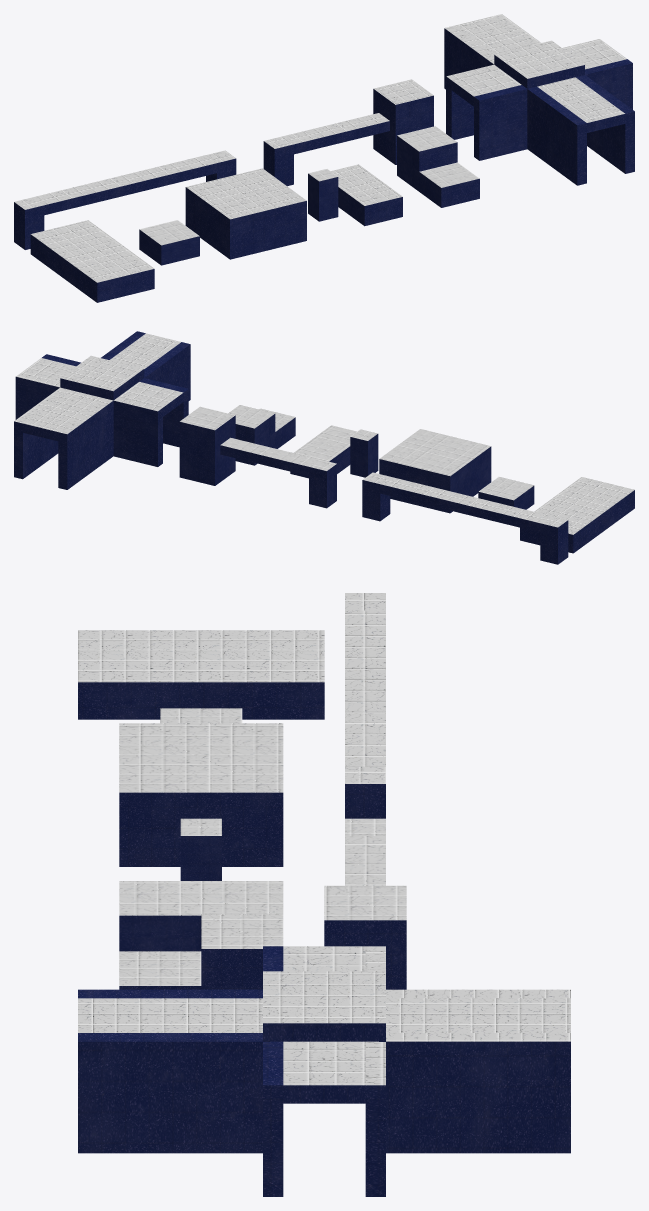
File: platforms 1.fbx
The picture shows the model from 3 angles, top to bottom: view 1: azimuth 30°, elevation 25°; view 2: azimuth 150°, elevation 25°; view 3: azimuth 270°, elevation 25°; orthographic projection. The views are drawn at different scales.
Visible parts, largest first — view 1: polySurface65, pCube3, polySurface66, pCube1, pCube12, pCube8, pCube5, pCube2, pCube4; view 2: polySurface65, polySurface66, pCube12, pCube3, pCube1, pCube8, pCube5, pCube2, pCube4; view 3: polySurface65, pCube3, pCube1, pCube12, polySurface66, pCube5, pCube8, pCube4, pCube2.
Part boxes in pixels (bbox=[...]): polySurface65: bbox=[444, 14, 634, 185]; pCube3: bbox=[185, 168, 306, 259]; polySurface66: bbox=[263, 79, 433, 186]; pCube1: bbox=[30, 220, 154, 302]; pCube12: bbox=[14, 150, 236, 249]; pCube8: bbox=[397, 126, 479, 207]; pCube5: bbox=[331, 164, 402, 226]; pCube2: bbox=[139, 220, 199, 265]; pCube4: bbox=[308, 169, 338, 221]; polySurface65: bbox=[14, 331, 190, 489]; polySurface66: bbox=[179, 406, 336, 508]; pCube12: bbox=[362, 472, 568, 564]; pCube3: bbox=[379, 429, 491, 513]; pCube1: bbox=[520, 477, 634, 553]; pCube8: bbox=[228, 405, 295, 465]; pCube5: bbox=[290, 425, 356, 478]; pCube2: bbox=[478, 477, 534, 509]; pCube4: bbox=[350, 429, 378, 477]; polySurface65: bbox=[78, 946, 570, 1196]; pCube3: bbox=[119, 723, 283, 866]; pCube1: bbox=[78, 630, 324, 719]; pCube12: bbox=[345, 593, 385, 818]; polySurface66: bbox=[324, 818, 406, 989]; pCube5: bbox=[119, 881, 283, 951]; pCube8: bbox=[119, 914, 283, 989]; pCube4: bbox=[180, 818, 221, 880]; pCube2: bbox=[160, 708, 242, 723].
Bounding box in the file's own units: 15.25 × 1.75 × 6.
Materials: 2 (2 with a texture image).
